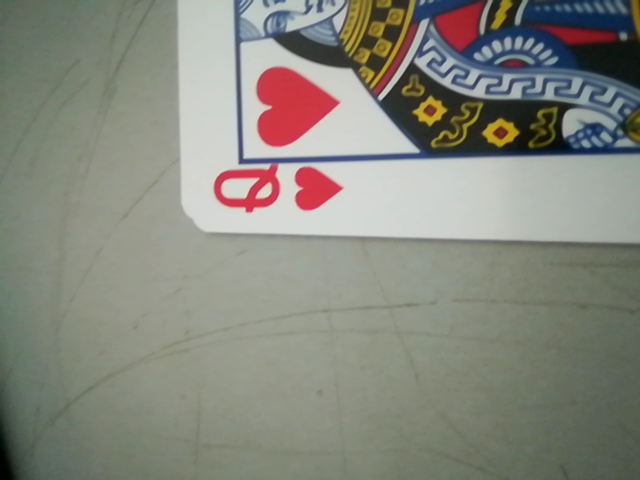hx q: (208, 158, 349, 226)
